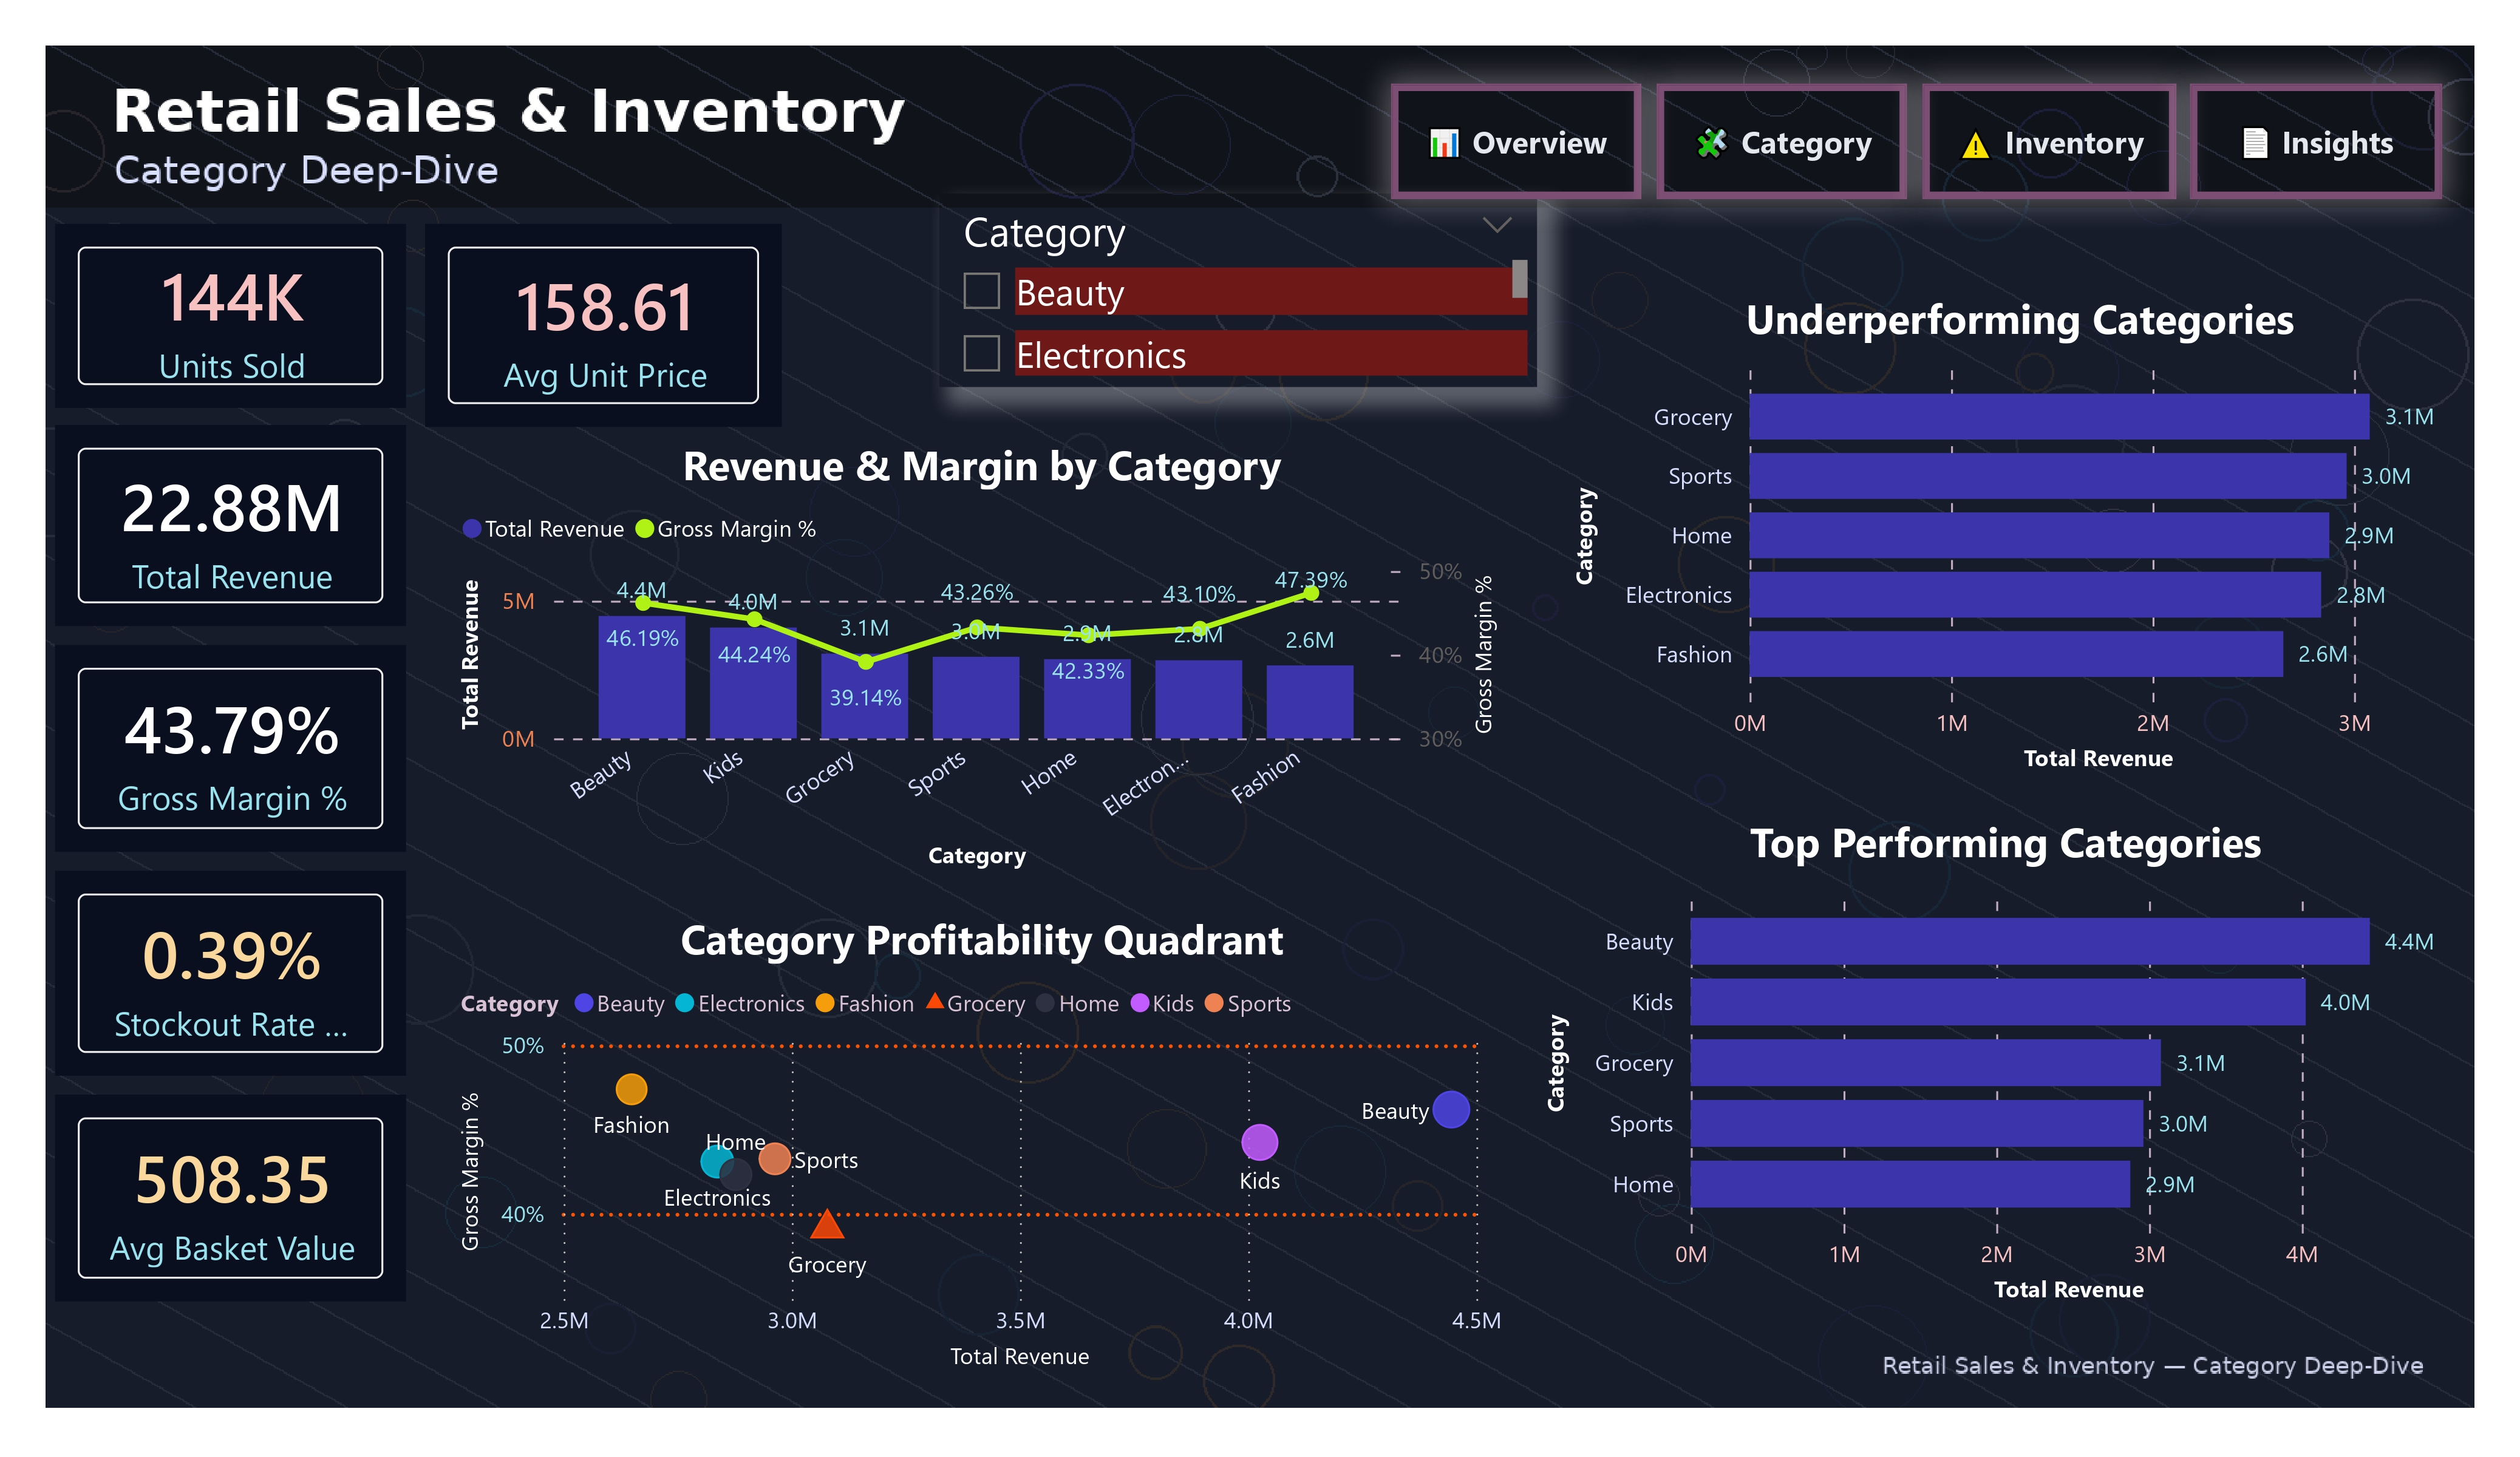

The dashboard page shown, as its layout file describes it:
{"tool":"powerbi","page":{"name":"Category Deep-Dive","canvas":[1280,720],"ordinal":1},"visuals":[{"type":"cardVisual","title":"Total Revenue ","fields":{"Data":["Table.Total Revenue"]},"box":[0,195,195,116.2],"z":0},{"type":"lineClusteredColumnComboChart","title":"Revenue & Margin by Category","fields":{"Category":["dim_products.Category"],"Y":["Table.Total Revenue"],"Y2":["Table.Gross Margin %"]},"box":[213.8,206.2,558.8,232.5],"z":1000},{"type":"barChart","title":"Top Performing Categories","fields":{"Category":["dim_products.Category"],"Y":["Table.Total Revenue"]},"box":[786.2,405,493.8,262.5],"z":2000},{"type":"barChart","title":"Underperforming Categories","fields":{"Category":["dim_products.Category"],"Y":["Table.Total Revenue"]},"box":[801.2,128.8,478.8,258.8],"z":3000},{"type":"cardVisual","title":"Avg Unit Price","fields":{"Data":["fact_sales.Avg Unit Price"]},"box":[195,88.8,197.5,117.5],"z":4000},{"type":"cardVisual","title":"Total Revenue ","fields":{"Data":["Table.Gross Margin %"]},"box":[0,311,195,118.8],"z":5000},{"type":"cardVisual","title":"Total Revenue ","fields":{"Data":["Table.Stockout Rate % (Filtered)"]},"box":[0,429.7,195,118.8],"z":6000},{"type":"cardVisual","title":"Total Revenue ","fields":{"Data":["Table.Avg Basket Value"]},"box":[0,548.5,195,118.8],"z":7000},{"type":"cardVisual","title":"Total Revenue ","fields":{"Data":["fact_sales.Units Sold"]},"box":[0,88.8,195,107.5],"z":8000},{"type":"scatterChart","title":"Category Profitability Quadrant","fields":{"X":["Table.Total Revenue"],"Y":["Table.Gross Margin %"],"Size":["fact_sales.Units Sold"],"Series":["dim_products.Category"]},"box":[213.7,455.5,559.3,247.9],"z":9000},{"type":"slicer","fields":{"Values":["dim_products.Category"]},"box":[471.2,77.5,315,102.5],"z":10000},{"type":"actionButton","title":"Overview","box":[708.8,20,132.5,61.2],"z":11000},{"type":"actionButton","title":"Overview","box":[848.8,20,132.5,61.2],"z":12000},{"type":"actionButton","title":"Overview","box":[988.8,20,133.8,61.2],"z":13000},{"type":"actionButton","title":"Overview","box":[1130,20,132.5,61.2],"z":14000}]}

Visuals, with their boxes on the page's 1280x720 design canvas (x1, y1, x2, y2). These are canvas units, not pixel positions in the 2520x1457 screenshot, which may show the page scaled, cropped or inside an application window:
"Total Revenue " cardVisual: <region>0, 195, 195, 311</region>
"Revenue & Margin by Category" lineClusteredColumnComboChart: <region>214, 206, 773, 439</region>
"Top Performing Categories" barChart: <region>786, 405, 1280, 668</region>
"Underperforming Categories" barChart: <region>801, 129, 1280, 388</region>
"Avg Unit Price" cardVisual: <region>195, 89, 392, 206</region>
"Total Revenue " cardVisual: <region>0, 311, 195, 430</region>
"Total Revenue " cardVisual: <region>0, 430, 195, 548</region>
"Total Revenue " cardVisual: <region>0, 548, 195, 667</region>
"Total Revenue " cardVisual: <region>0, 89, 195, 196</region>
"Category Profitability Quadrant" scatterChart: <region>214, 456, 773, 703</region>
slicer - dim_products.Category: <region>471, 78, 786, 180</region>
"Overview" actionButton: <region>709, 20, 841, 81</region>
"Overview" actionButton: <region>849, 20, 981, 81</region>
"Overview" actionButton: <region>989, 20, 1123, 81</region>
"Overview" actionButton: <region>1130, 20, 1262, 81</region>
